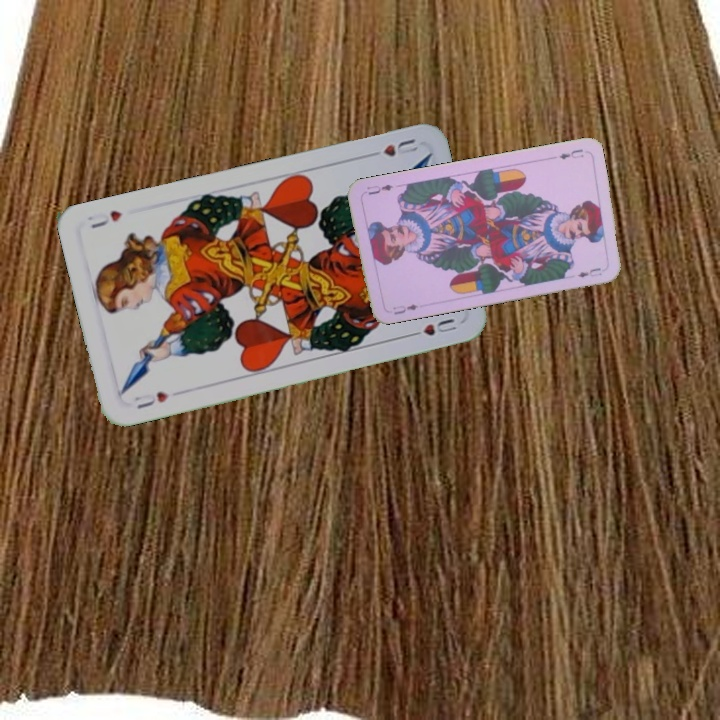EU: (389, 300, 421, 317), (554, 145, 586, 162)
HU: (363, 134, 421, 160), (130, 387, 172, 412)
